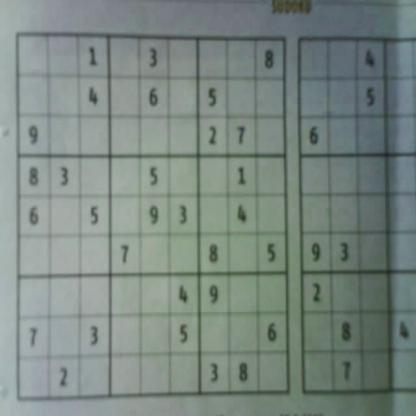sudoku: (12, 28, 294, 404)
